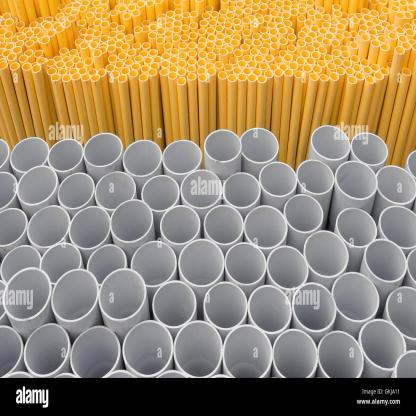PVC: (2, 1, 414, 378)
